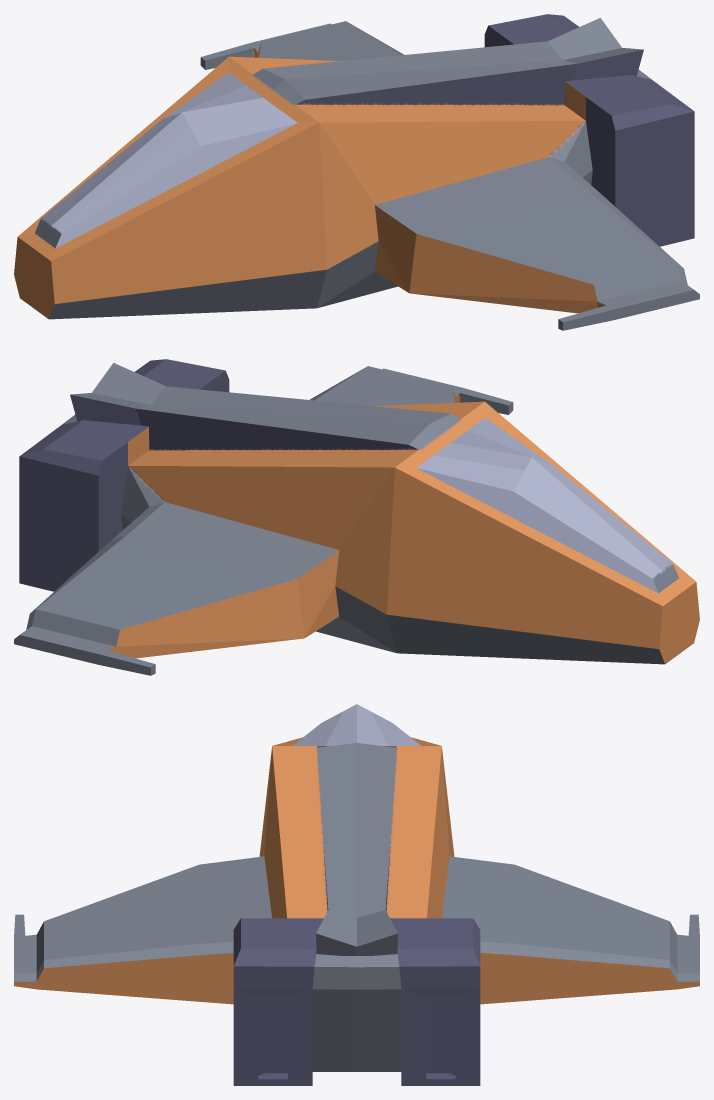
Rendered from fbDron.fbx.
3 views of the same model, one above another, from view 1: azimuth 30°, elevation 25°; view 2: azimuth 150°, elevation 25°; view 3: azimuth 270°, elevation 25° (orthographic). The views are drawn at different scales.
Visible parts, largest first — view 1: Dron; view 2: Dron; view 3: Dron.
Part boxes in pixels (x1,y1,x2,y2): Dron: (14, 14, 699, 330); Dron: (14, 359, 699, 675); Dron: (14, 704, 699, 1085).
Bounding box in the file's own units: 91.98 × 28.86 × 97.23.
